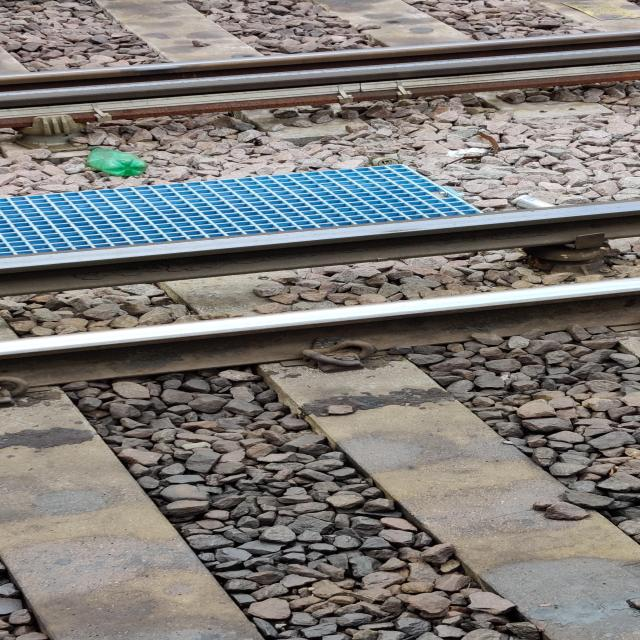litter: (85, 146, 148, 176)
